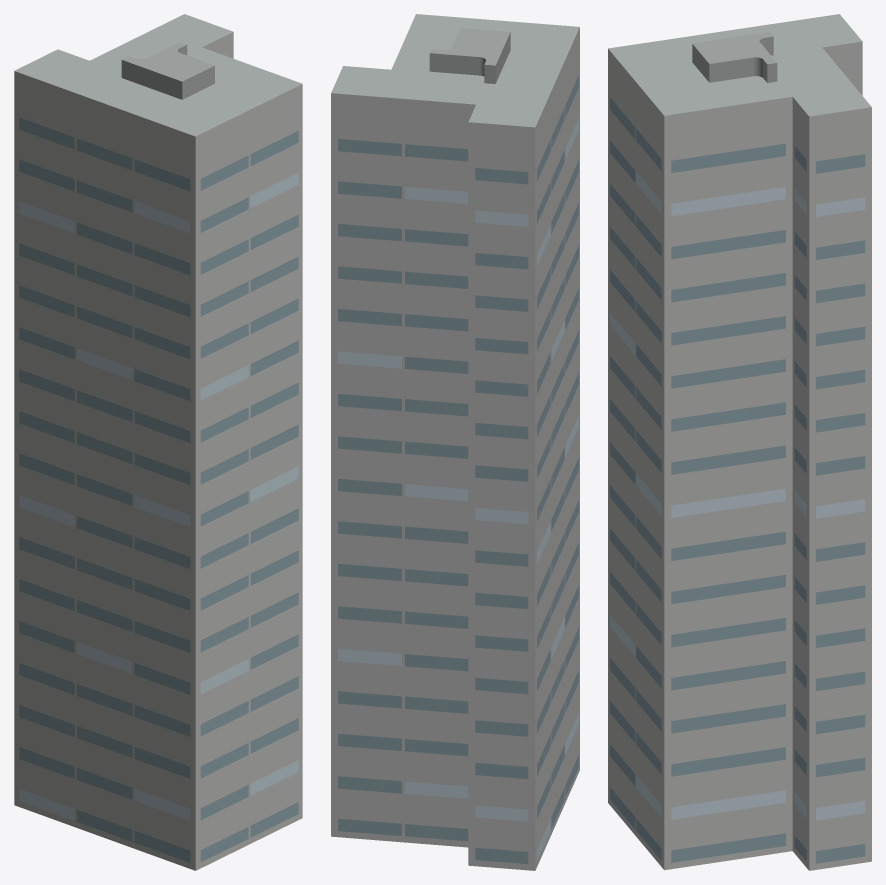
Rendered from fallback-songpa-helio-city-208.glb.
3 views of the same model, side by side, from view 1: azimuth 30°, elevation 25°; view 2: azimuth 150°, elevation 25°; view 3: azimuth 270°, elevation 25° (orthographic). The views are drawn at different scales.
Parts seen in each view (by area): view 1: fallback-songpa-helio-city-208; view 2: fallback-songpa-helio-city-208; view 3: fallback-songpa-helio-city-208.
Boxes of the visible parts, <box> form: fallback-songpa-helio-city-208: <box>14,14,302,870</box>; fallback-songpa-helio-city-208: <box>331,14,579,870</box>; fallback-songpa-helio-city-208: <box>608,14,871,870</box>.
Bounding box in the file's own units: 28.17 × 99 × 30.63.
